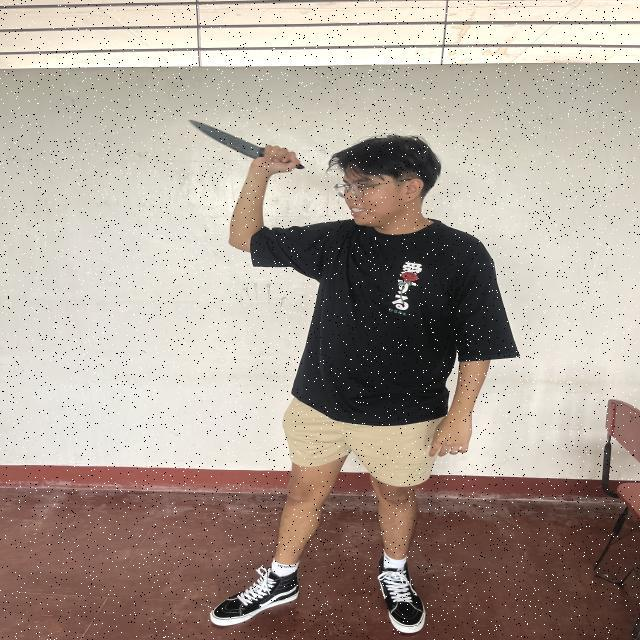knife: (189, 120, 307, 170)
non-violence: (190, 119, 510, 633)
